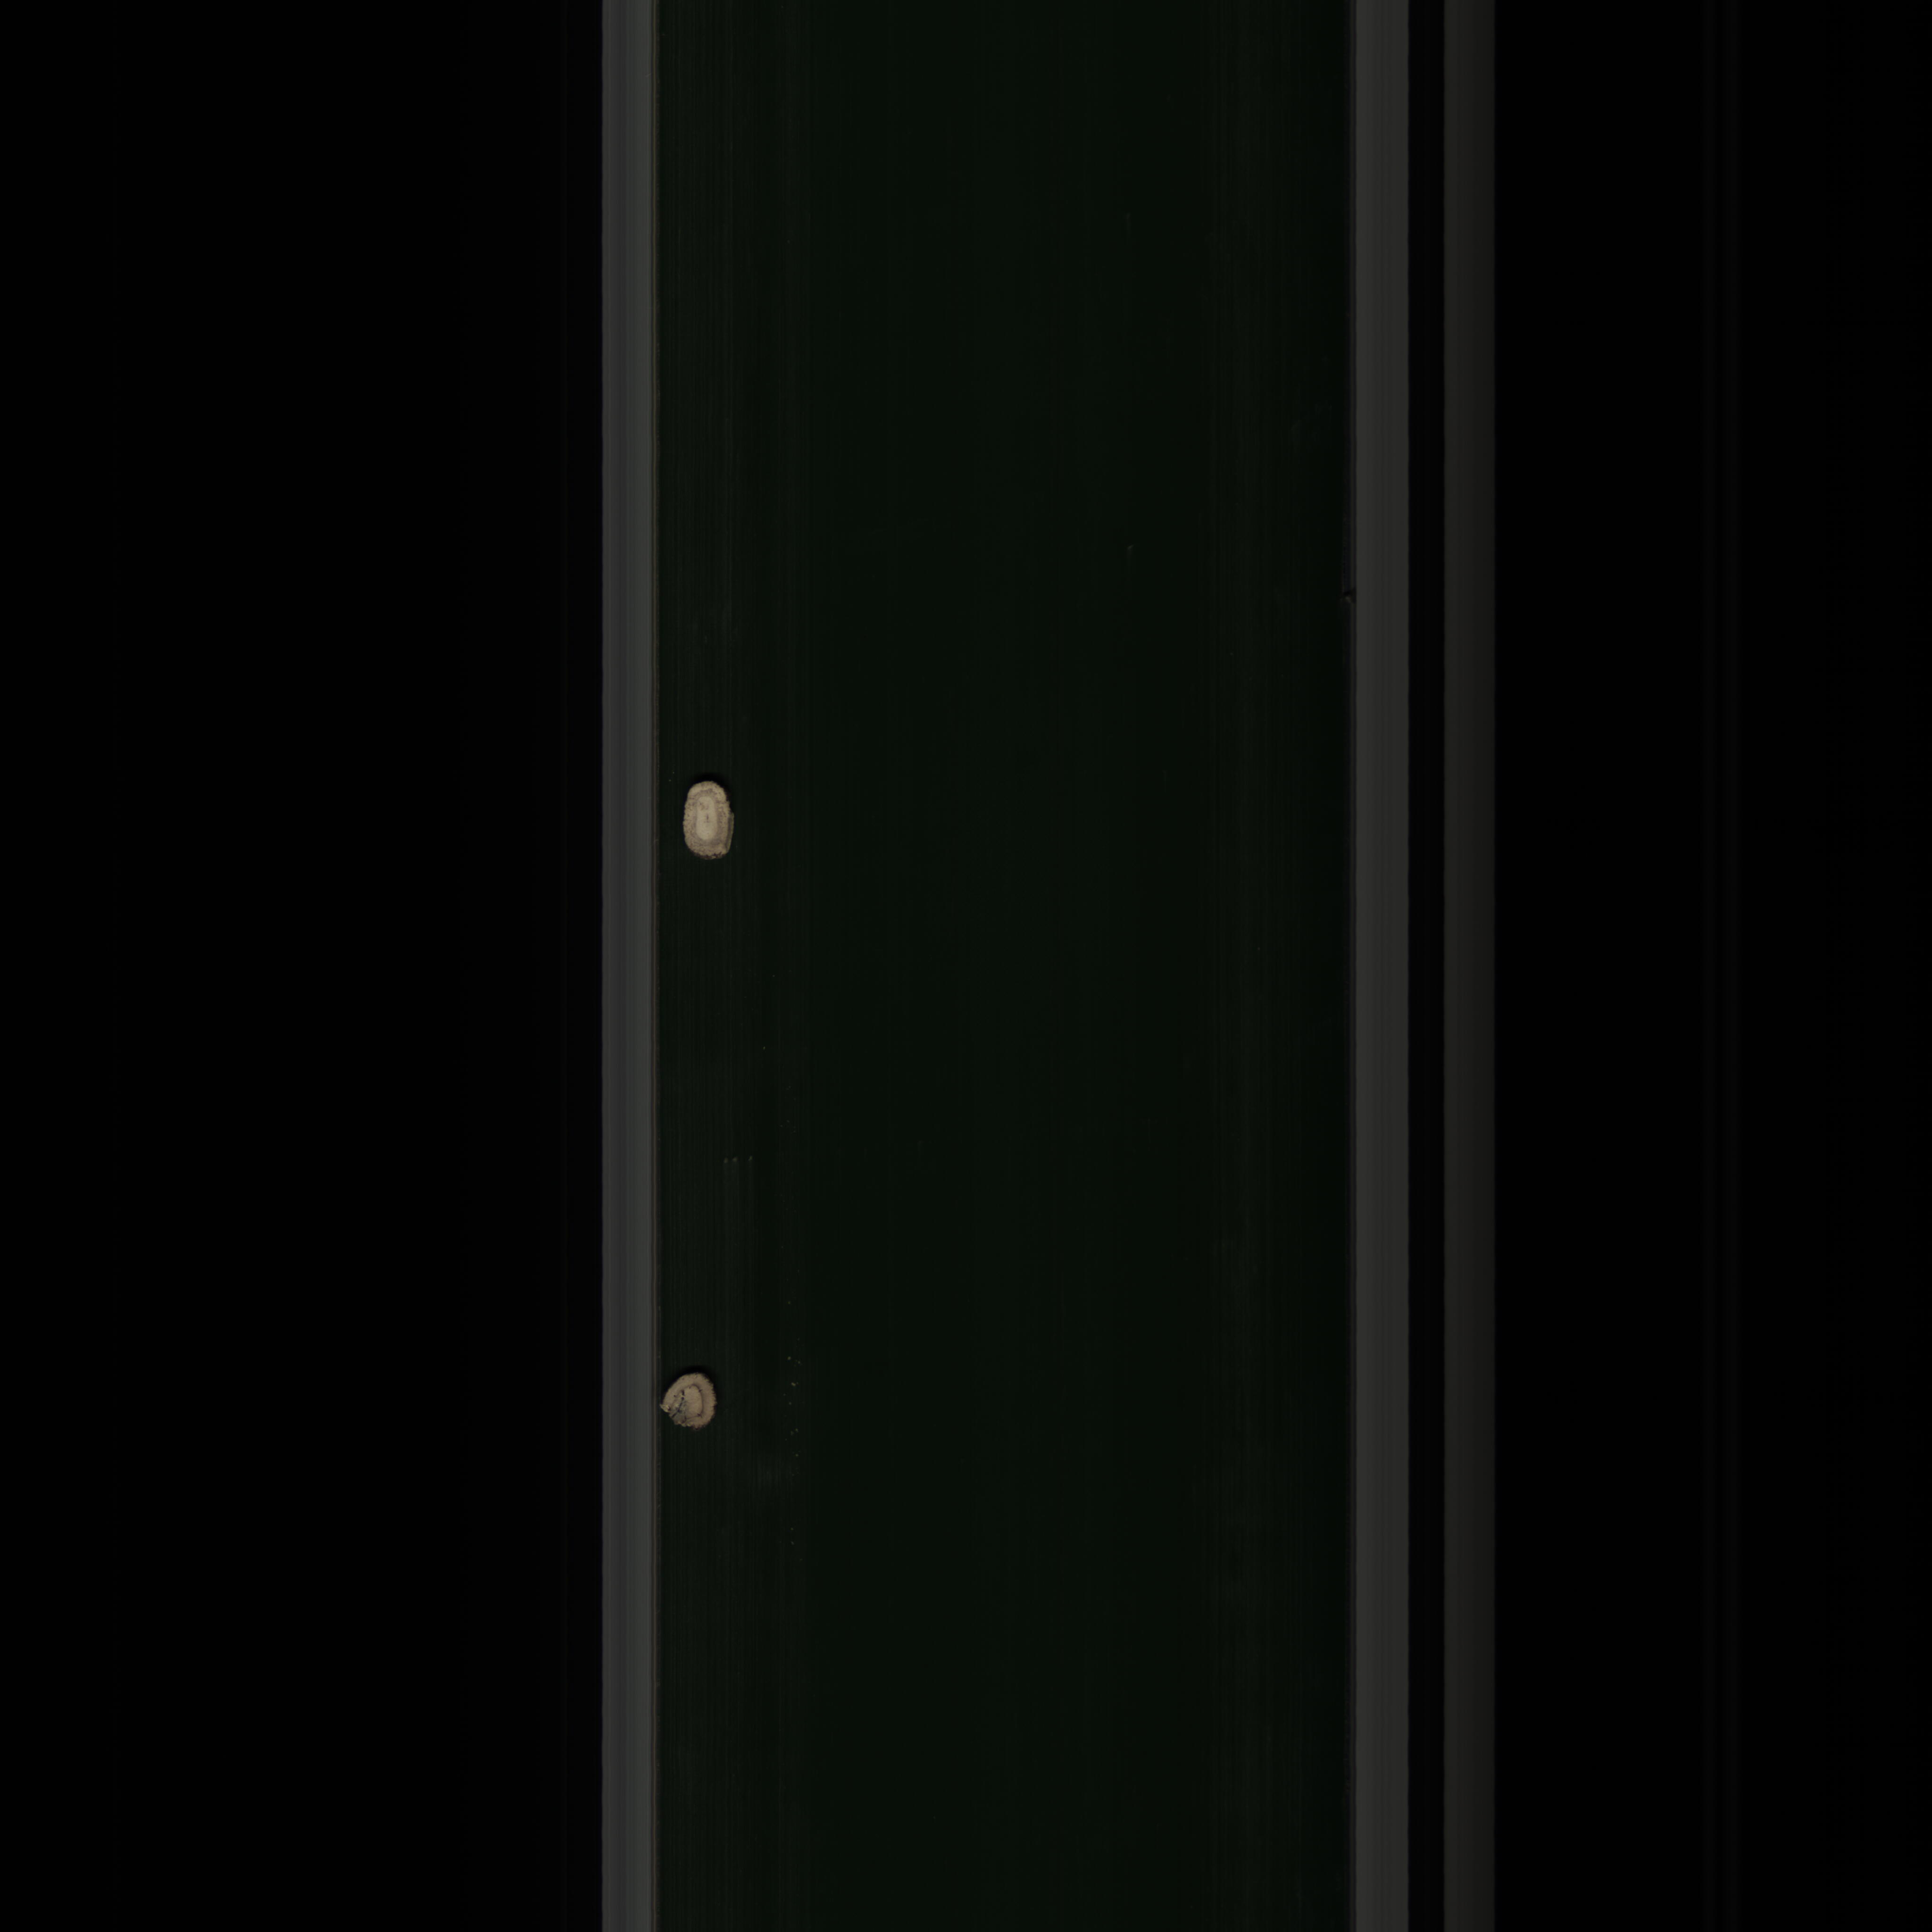moldy: (658, 1366, 724, 1435)
